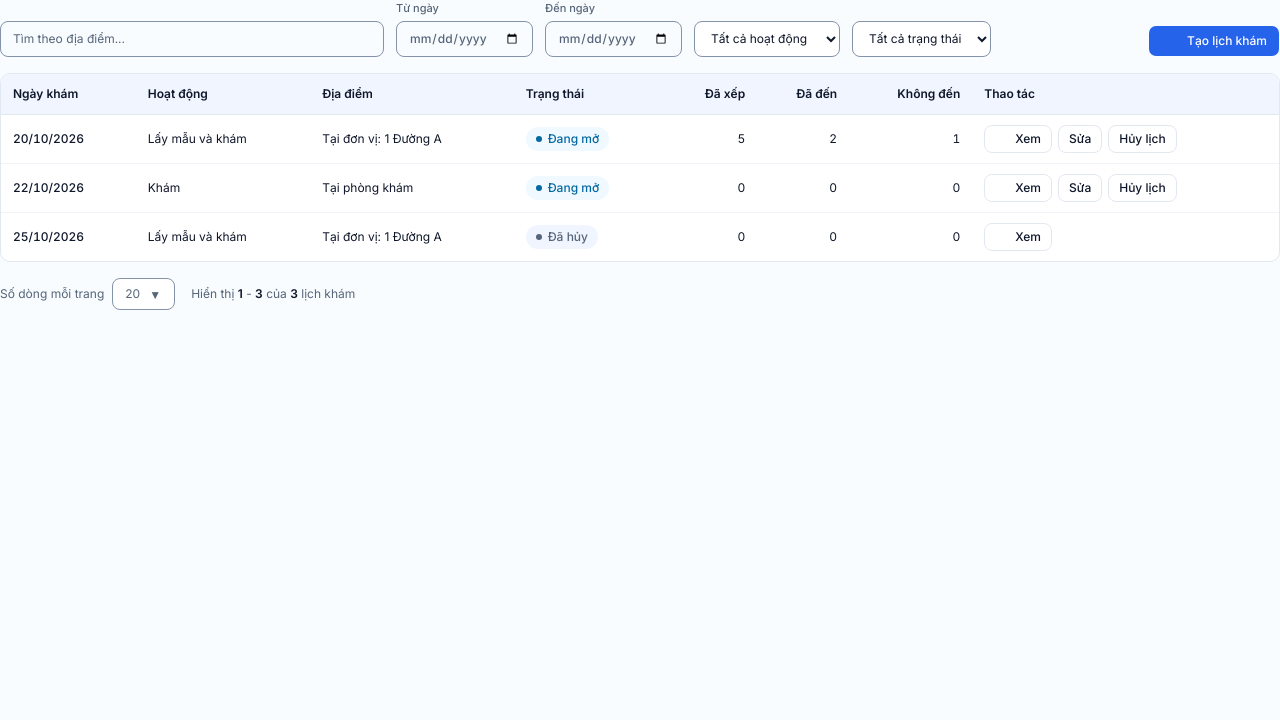
Test: editing and cancelling a session › puts the version of the row into the update
The image size is (1280, 720).
Step 1. Click the button with aria-label "Sửa lịch khám ngày 20/10/2026" → coordinates (1080, 138), box [1058,124,1102,152]
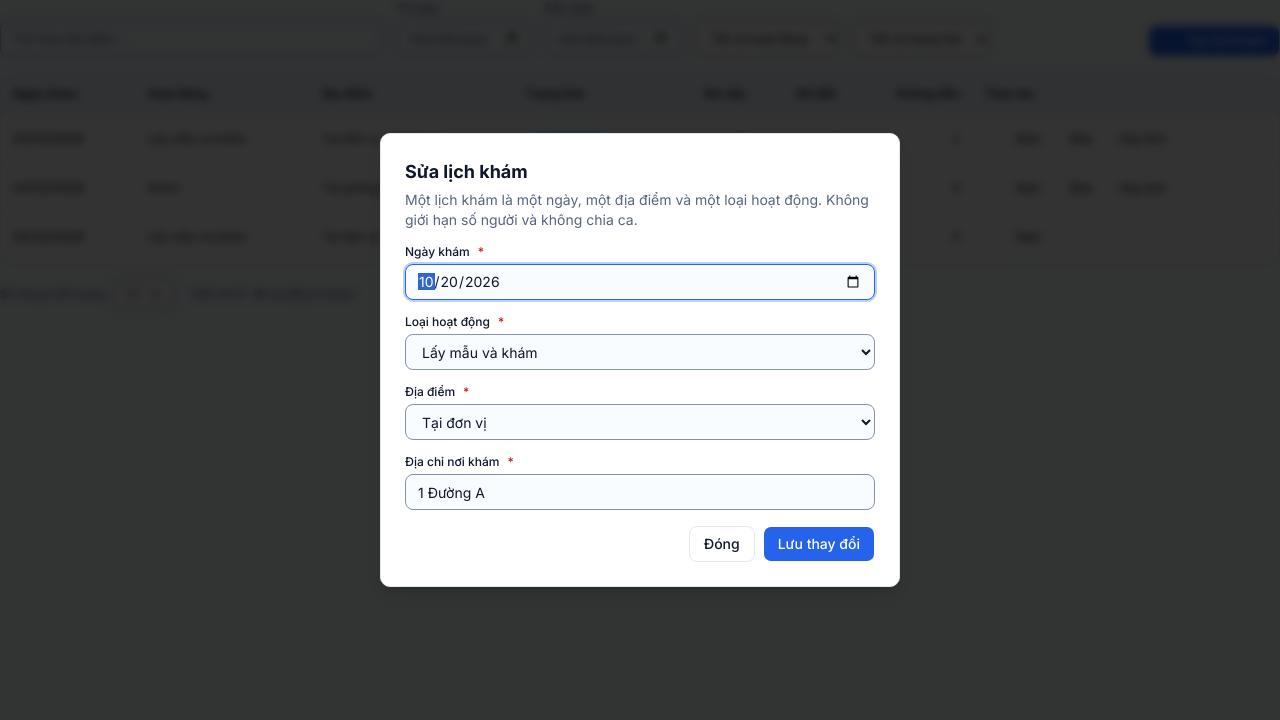
Result: the date field labelled "Ngày khám *" holds "2026-10-20"
Result: the field labelled "Địa chỉ nơi khám *" holds "1 Đường A" at [405,474,875,510]
Step 2. Type "2026-10-21" into the date field labelled "Ngày khám *" → coordinates (640, 282), box [405,264,875,300]
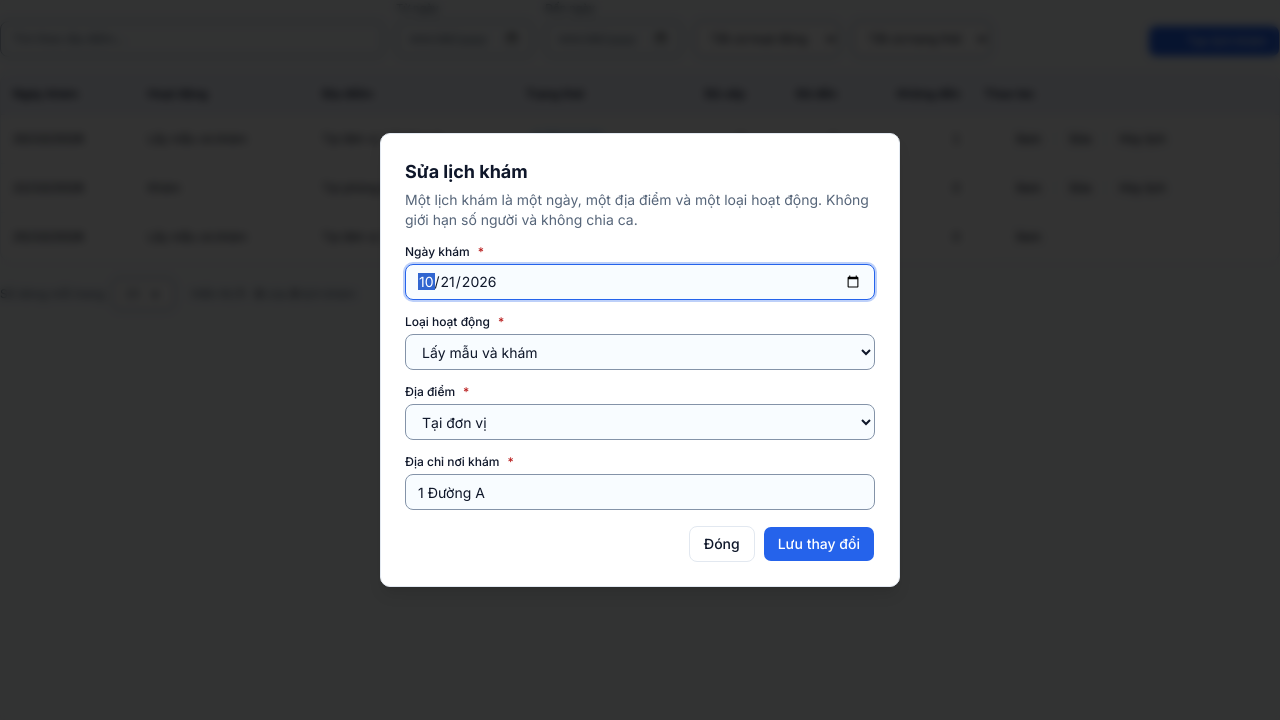
Step 3. Click the button "Lưu thay đổi" → coordinates (819, 544), box [763,526,875,562]
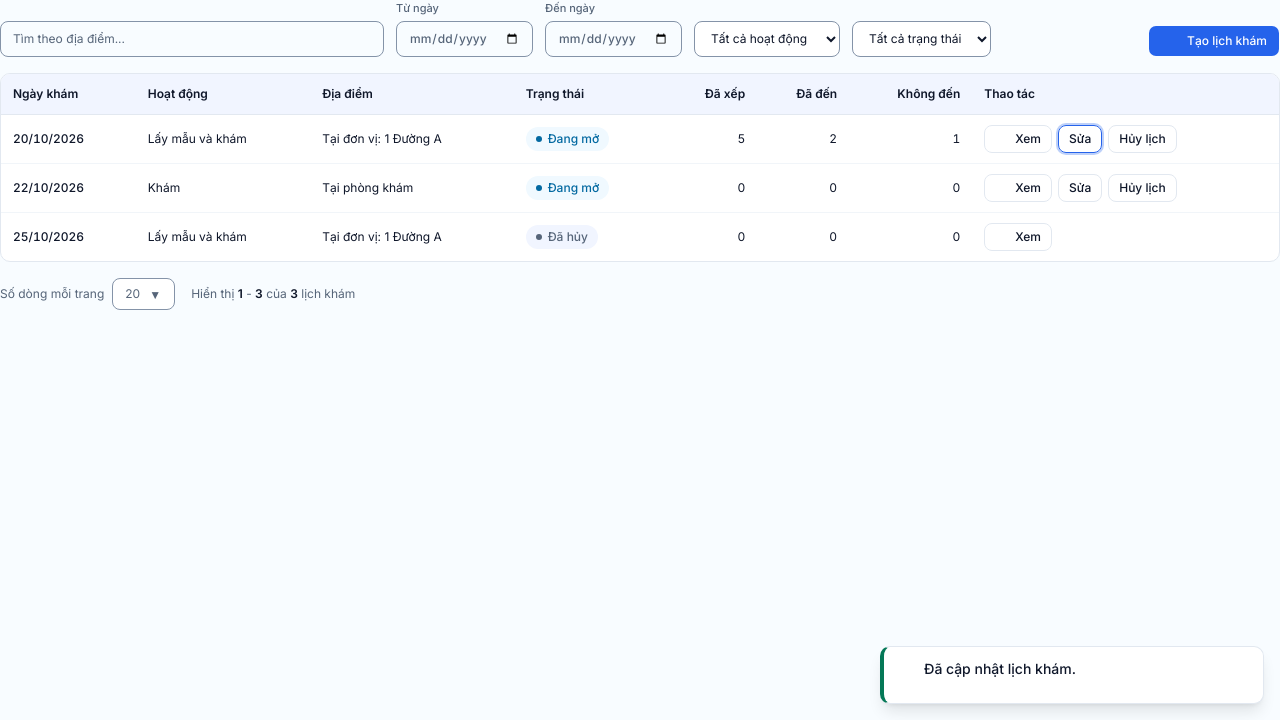
Result: the heading "Đã cập nhật lịch khám." is shown at [924,660,1076,677]
